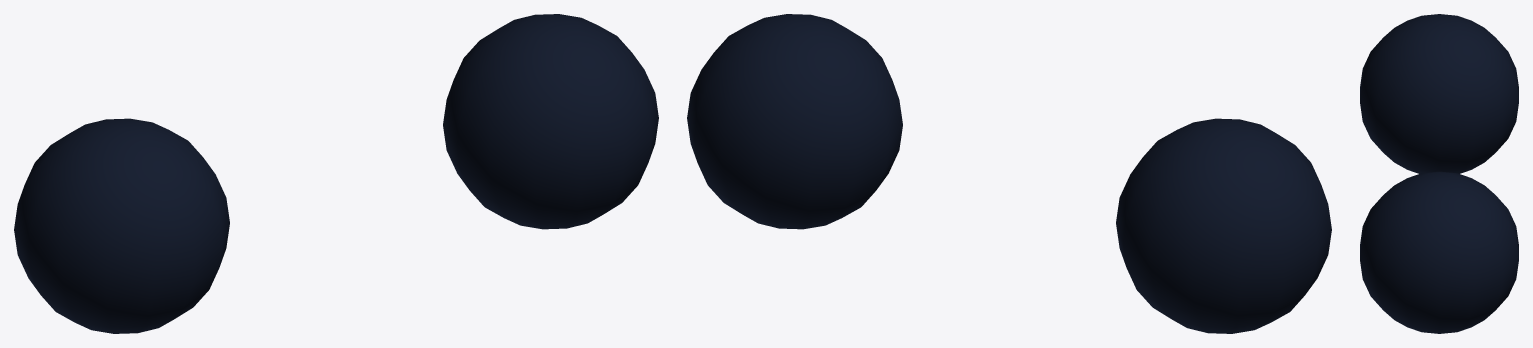
File: dot.glb
3 renders of one model, left to right at view 1: azimuth 30°, elevation 25°; view 2: azimuth 150°, elevation 25°; view 3: azimuth 270°, elevation 25°, orthographic. The views are drawn at different scales.
Size of the model in its own units: 4.6 by 1.4 by 1.36.
